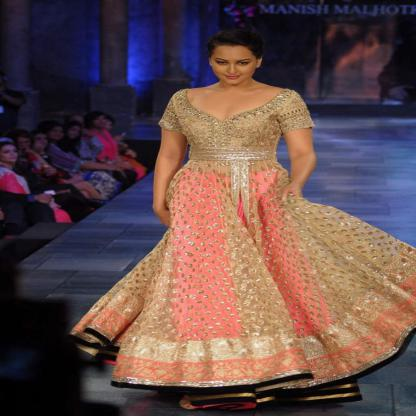face: (212, 48, 257, 86), (1, 147, 19, 163), (51, 128, 65, 140), (18, 139, 32, 151), (36, 136, 48, 149), (69, 128, 83, 139), (95, 117, 107, 127), (103, 123, 113, 133)
